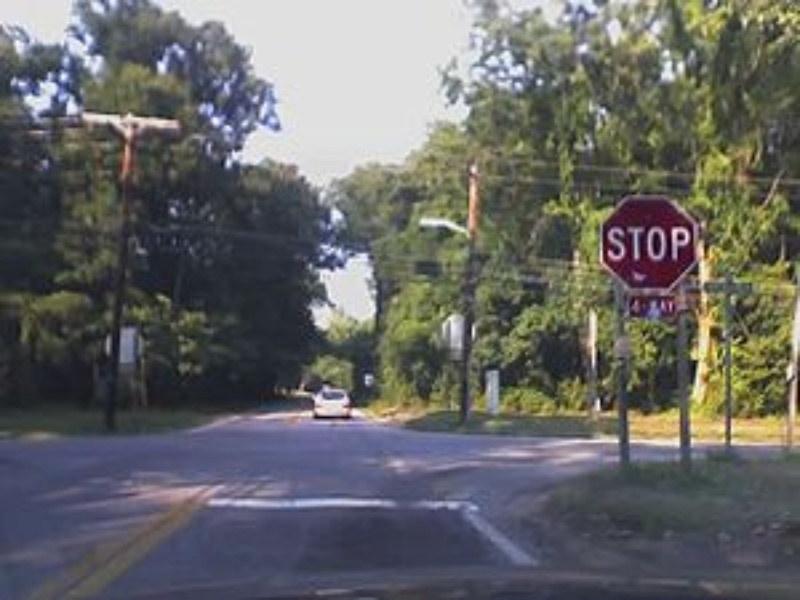stop sign: (597, 194, 701, 296)
